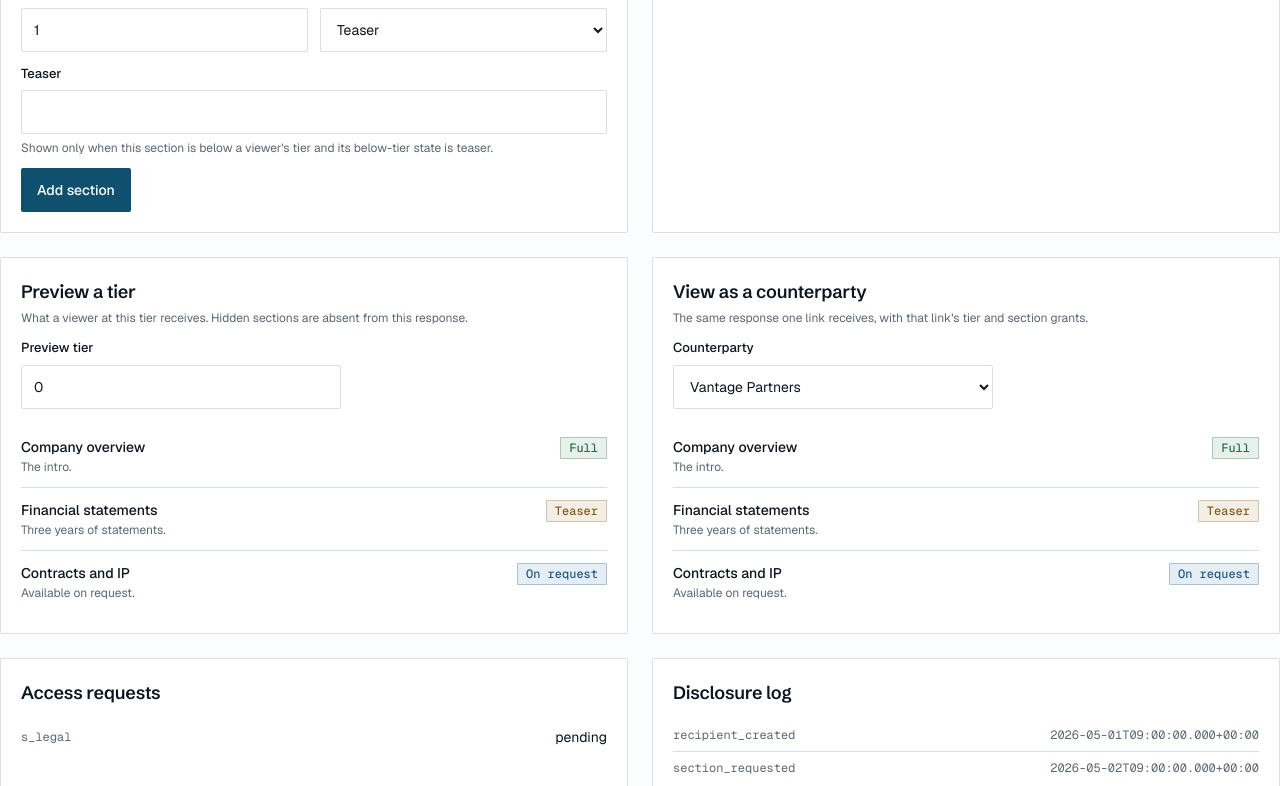
it: the counterparty view › says a revoked link is closed rather than showing an empty tree in silence
(page scrolled)
Select "Fabrikam Logistics" in the dropdown labelled "Counterparty" at (833, 387), box [673,365,993,409]
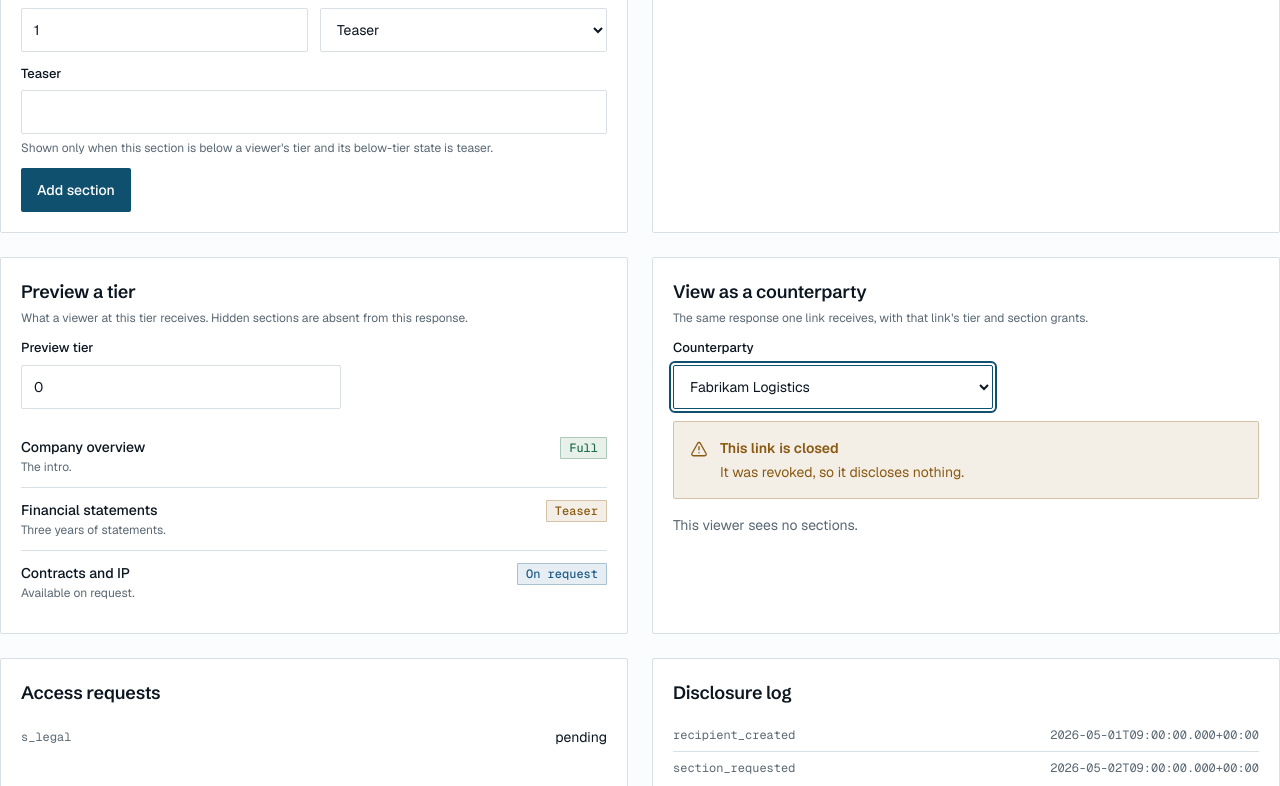
expect the text "This link is closed" is shown: met, box [720,439,839,457]
expect the text "It was revoked, so it discloses nothing." is shown: met, box [720,463,964,481]
